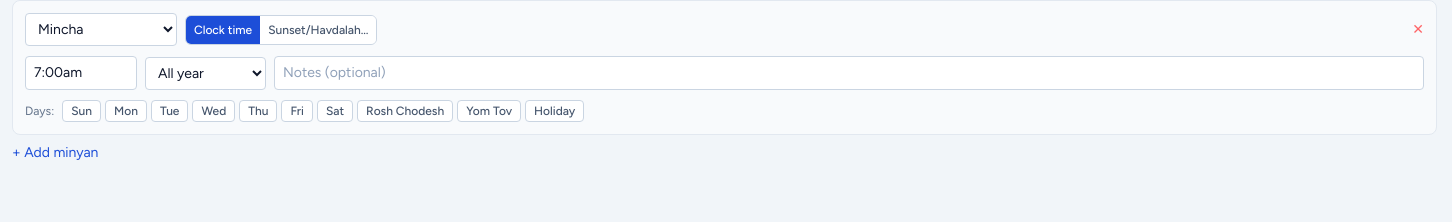
it: MinyanimInput › offers the limits only on a relative row, and only once expanded
Expected: the text "+ Add earliest/latest limits" is not shown
Click the button "Sunset/Havdalah…". click: (318, 30)
box: [260,16,376,44]
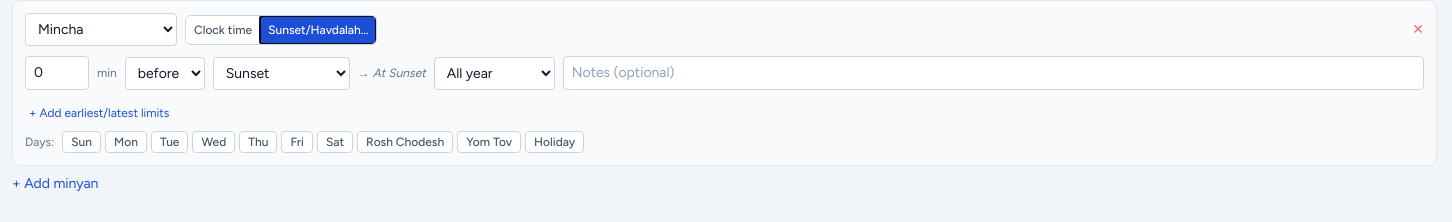
Click the button "+ Add earliest/latest limits". click: (97, 113)
box: [25,105,170,121]
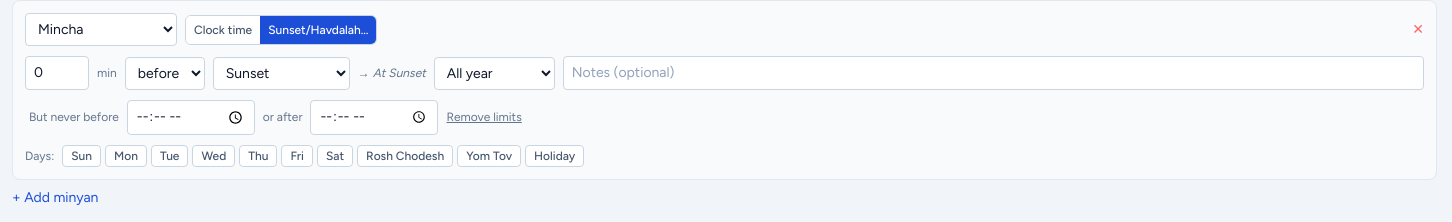
Expected: the time field named "Earliest time" is shown, [127,100,255,135]
Expected: the time field named "Latest time" is shown, [310,100,438,135]
